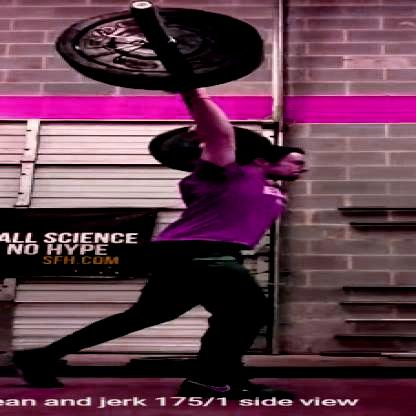Barbell: (128, 2, 160, 13)
